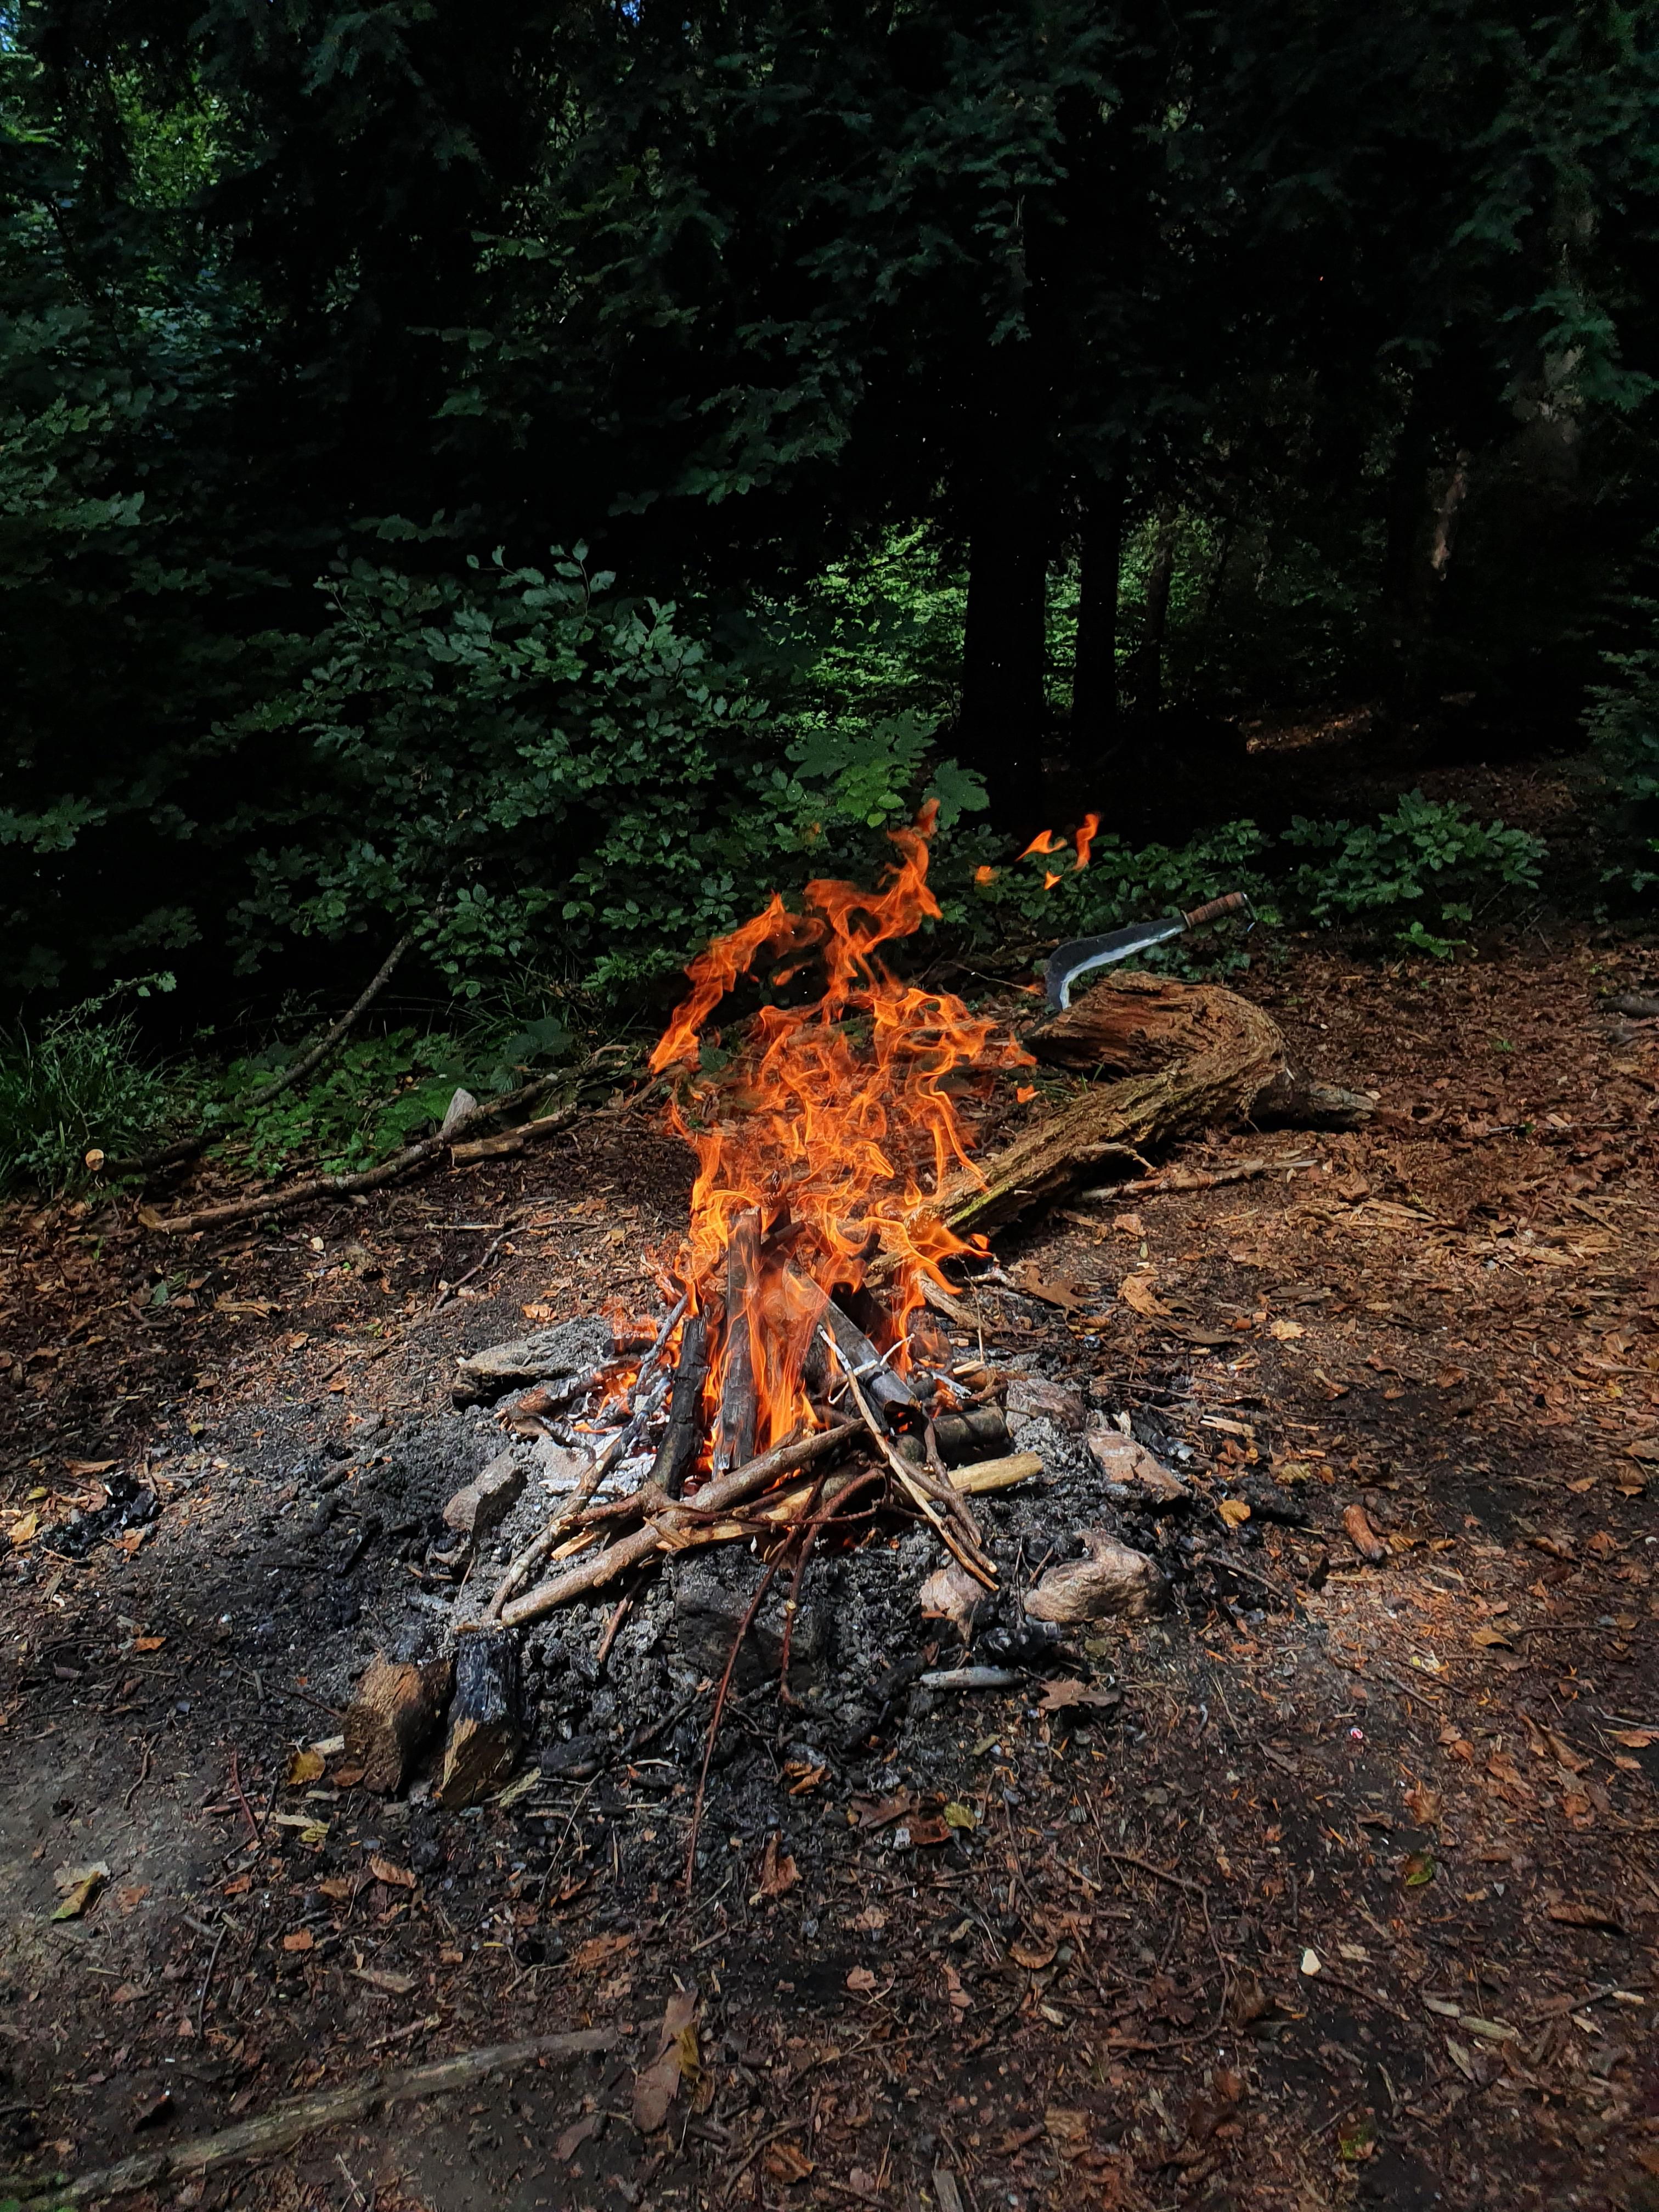fire: (488, 742, 1171, 1773)
